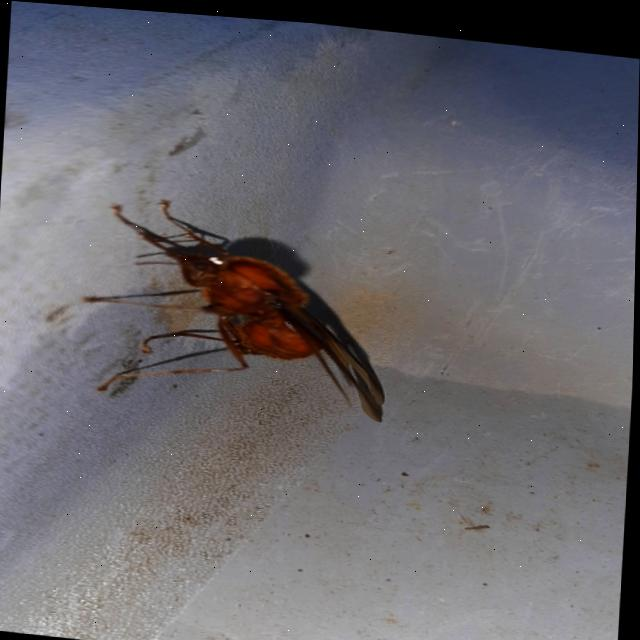Alive-Male-Alate: (78, 191, 396, 417)
